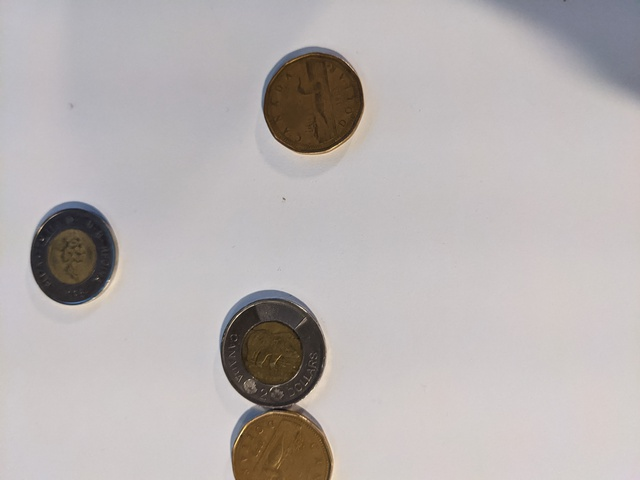loonie: (250, 45, 380, 160), (208, 403, 360, 475)
twonie: (208, 285, 335, 403), (26, 199, 122, 312)
